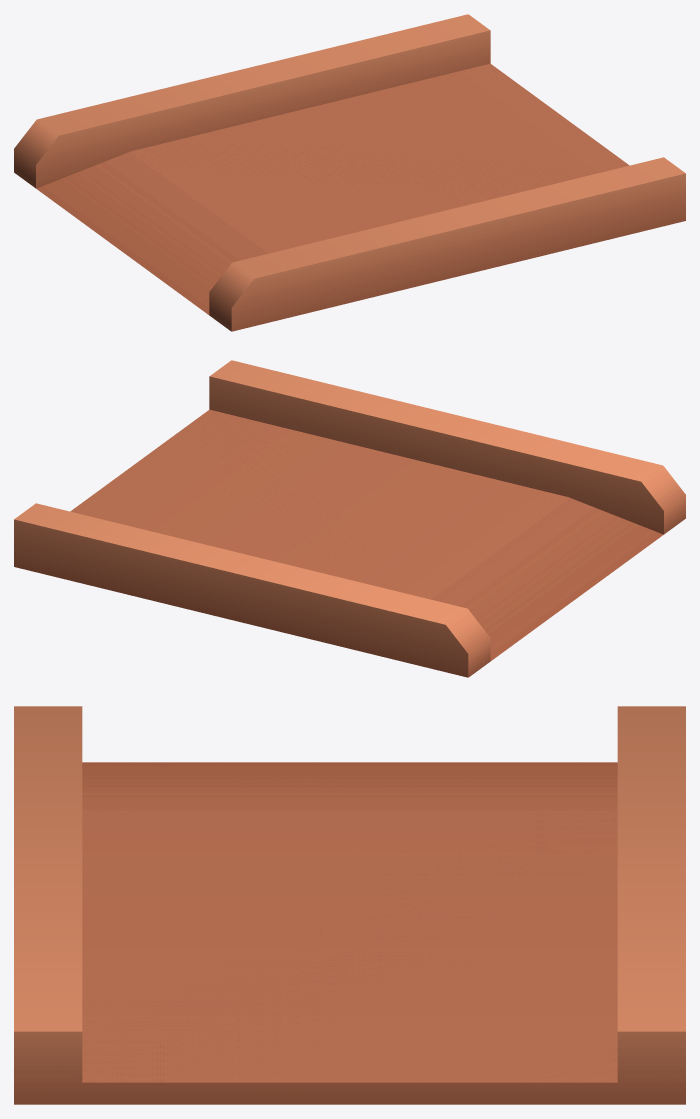
Rendered from bridge_draw.glb.
3 views of the same model, one above another, from view 1: azimuth 30°, elevation 25°; view 2: azimuth 150°, elevation 25°; view 3: azimuth 270°, elevation 25° (orthographic). The views are drawn at different scales.
Parts seen in each view (by area): view 1: bridge-draw; view 2: bridge-draw; view 3: bridge-draw.
Part boxes in pixels (x1=…): bridge-draw: x1=14, y1=14, x2=685, y2=331; bridge-draw: x1=14, y1=360, x2=685, y2=677; bridge-draw: x1=14, y1=706, x2=685, y2=1104.
Size of the model in its own units: 1 by 0.1 by 0.8311.
Materials: 1 (1 with a texture image).
